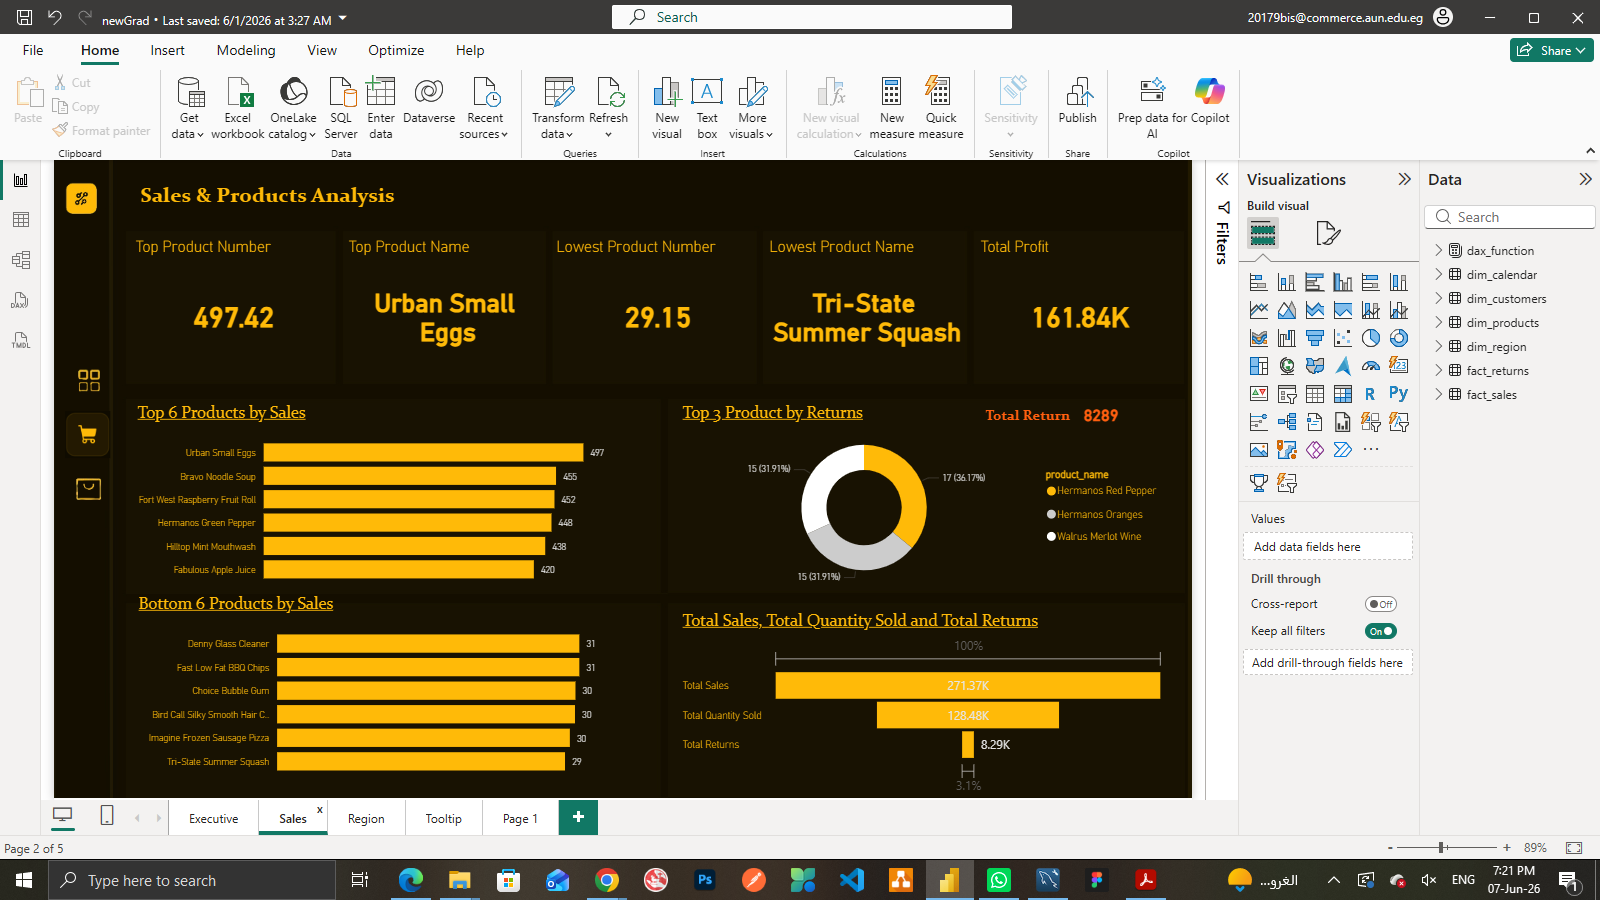

Layout of this report page (visuals, bound fields, positions):
{"tool":"powerbi","page":{"name":"Sales","canvas":[1280,720],"ordinal":1},"visuals":[{"type":"card","title":"Total Profit","fields":{"Values":["dax_function.Total Profit"]},"box":[1037.1,86.1,233.9,160.6],"z":0},{"type":"card","title":"Top Product Name","fields":{"Values":["dax_function.Top Product Name"]},"box":[326.4,86.1,233.9,160.6],"z":1000},{"type":"card","title":"Top Product Number","fields":{"Values":["dax_function.Top Product Revenue"]},"box":[86.1,86.1,231.3,160.6],"z":2000},{"type":"card","title":"Lowest Product Number","fields":{"Values":["dax_function.Lowest Product Revenue"]},"box":[560.3,86.1,239,160.6],"z":3000},{"type":"card","title":"Lowest Product Name","fields":{"Values":["dax_function.Lowest Product Name"]},"box":[799.4,86.1,230,160.6],"z":4000},{"type":"image","box":[6.4,215.9,69.4,72],"z":5000},{"type":"image","box":[12.4,282.4,50.6,52.9],"z":6000},{"type":"image","box":[6.4,335.4,69.4,70.7],"z":7000},{"type":"image","box":[9,0,51.4,87.4],"z":8000},{"type":"clusteredBarChart","title":"Top 6 Products by Sales","fields":{"Category":["dim_products.product_name"],"Y":["dax_function.Total Sales"]},"box":[88.7,272.4,591.2,214.6],"z":9000},{"type":"clusteredBarChart","title":"Bottom 6 Products by Sales","fields":{"Category":["dim_products.product_name"],"Y":["dax_function.Total Sales"]},"box":[90,487.1,593.7,215.9],"z":10000},{"type":"donutChart","title":"Top 3 Product by Returns","fields":{"Category":["dim_products.product_name"],"Y":["dax_function.Total Returns"]},"box":[701.7,272.4,552.6,214.6],"z":11000},{"type":"funnel","fields":{"Y":["dax_function.Total Sales","dax_function.Total Quantity Sold","dax_function.Total Returns"]},"box":[701.7,506.3,552.6,213.3],"z":12000},{"type":"textbox","box":[92.5,19.3,313.6,47.6],"z":13000},{"type":"card","title":"Total Profit","fields":{"Values":["dax_function.Total Returns"]},"box":[1145.2,256.5,65.2,61.9],"z":14000},{"type":"textbox","box":[1042.9,272.2,111.4,43.9],"z":15000}]}

Visuals, with their boxes on the page's 1280x720 design canvas (x1, y1, x2, y2). These are canvas units, not pixel positions in the 1600x900 screenshot, which may show the page scaled, cropped or inside an application window:
"Total Profit" card: 1037/86/1271/247
"Top Product Name" card: 326/86/560/247
"Top Product Number" card: 86/86/317/247
"Lowest Product Number" card: 560/86/799/247
"Lowest Product Name" card: 799/86/1029/247
image: 6/216/76/288
image: 12/282/63/335
image: 6/335/76/406
image: 9/0/60/87
"Top 6 Products by Sales" clusteredBarChart: 89/272/680/487
"Bottom 6 Products by Sales" clusteredBarChart: 90/487/684/703
"Top 3 Product by Returns" donutChart: 702/272/1254/487
funnel - dax_function.Total Sales x dax_function.Total Quantity Sold: 702/506/1254/720
textbox: 92/19/406/67
"Total Profit" card: 1145/256/1210/318
textbox: 1043/272/1154/316
